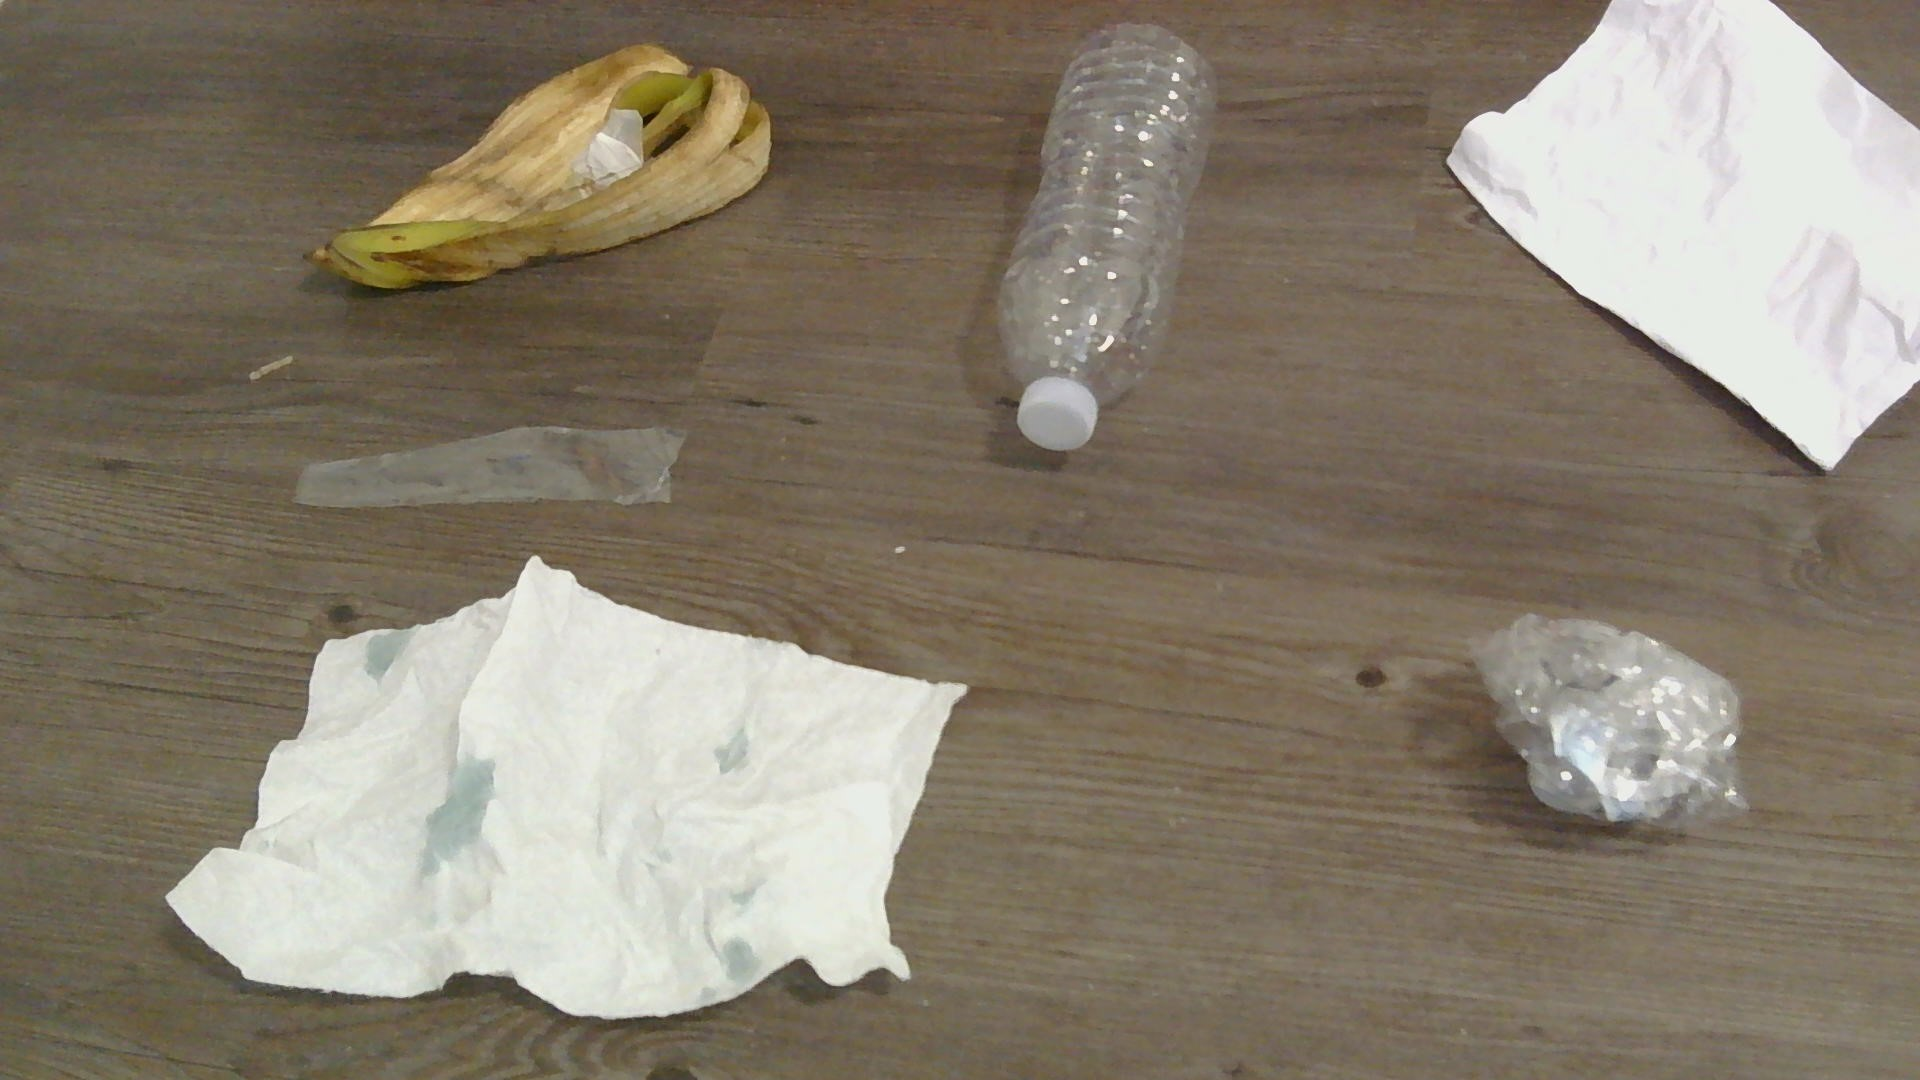banana peel: (306, 42, 771, 291)
bottle: (990, 18, 1215, 447)
crushed bottle: (1470, 607, 1743, 831)
napkin: (162, 558, 963, 1023)
paper: (1447, 0, 1917, 471)
plastic piece: (294, 414, 687, 506)
